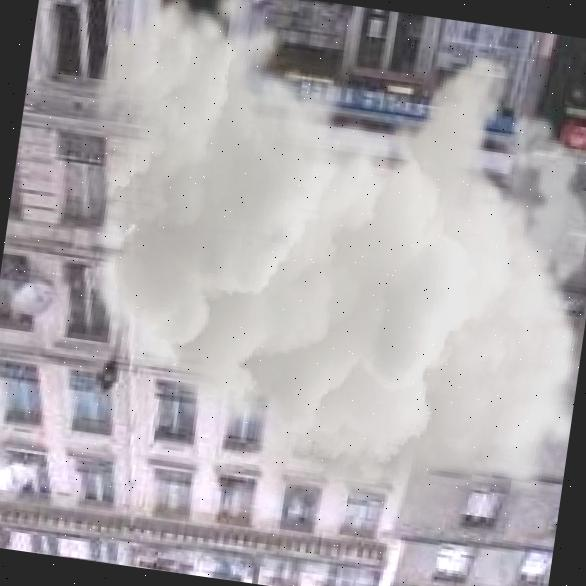smoke: (32, 0, 586, 571)
